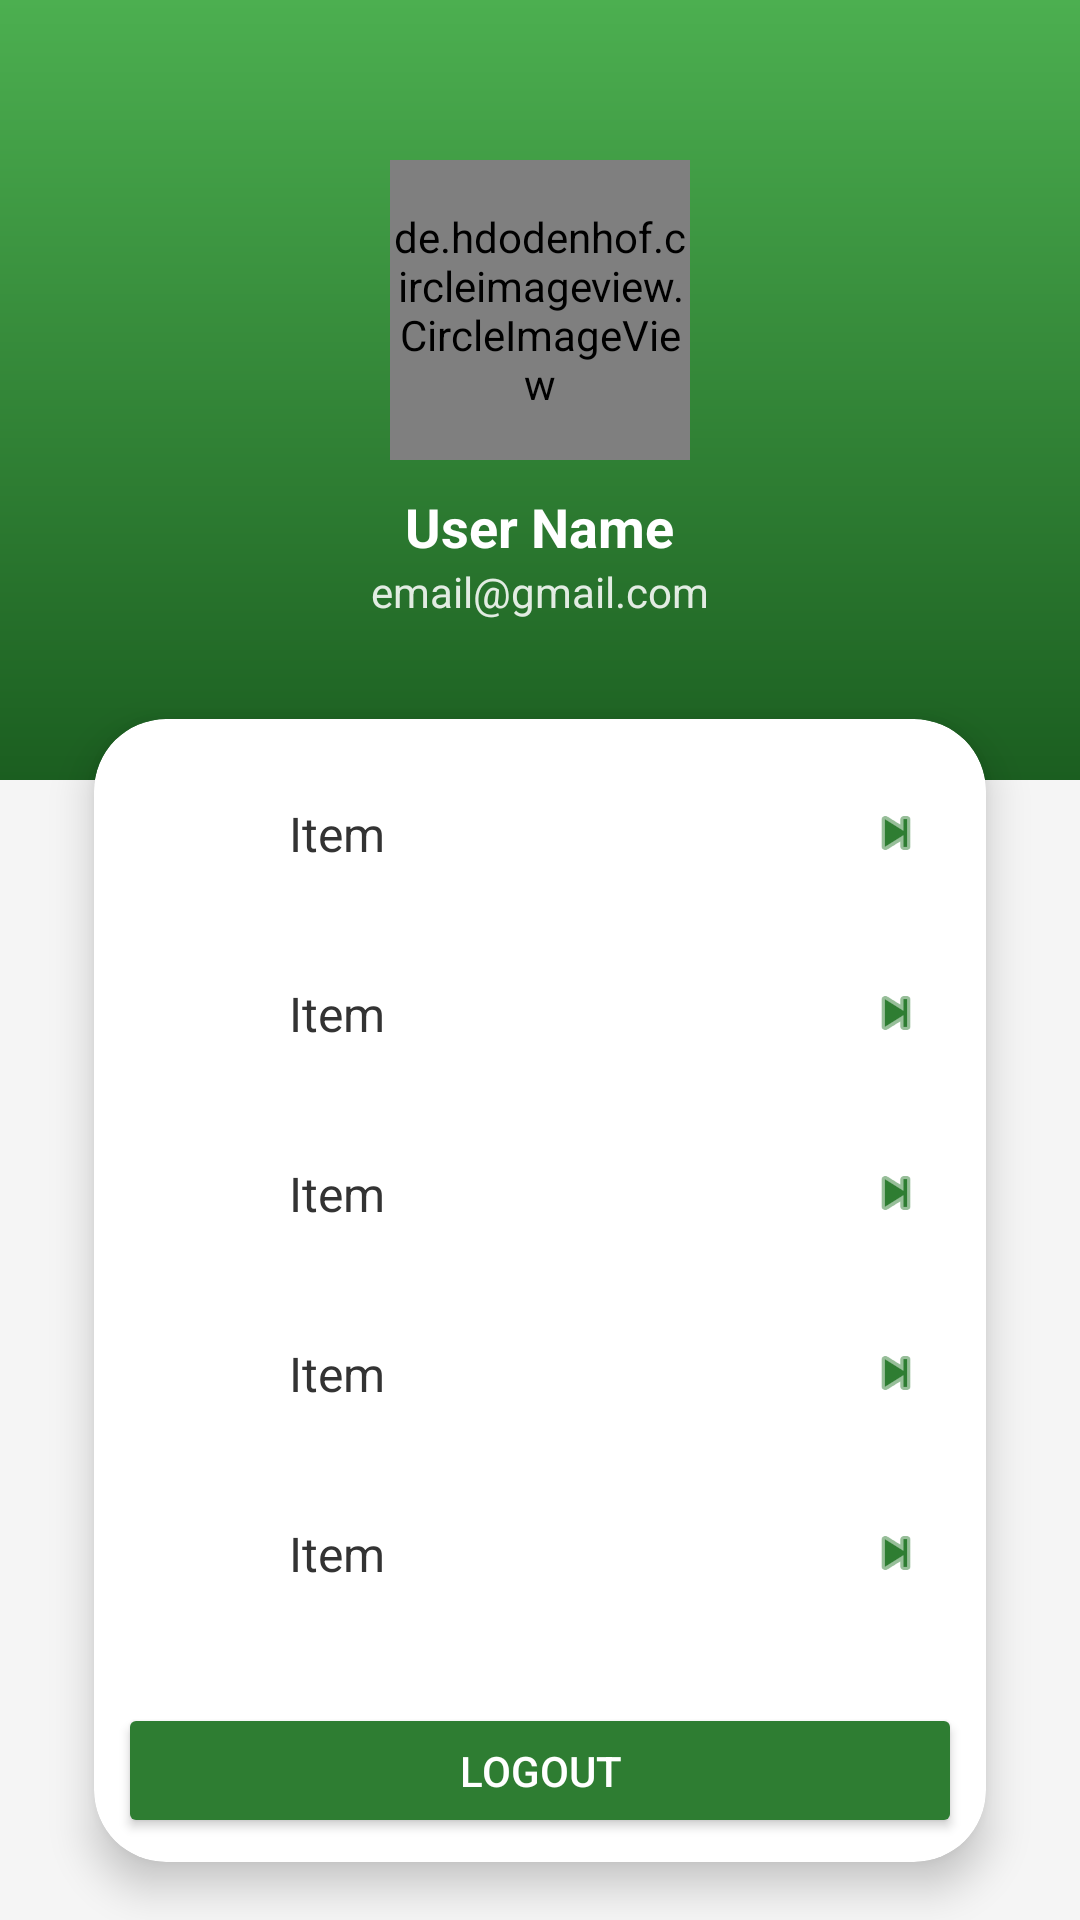

Where icons sit on this 1080x1920 app screen, as (x1, y1, x2, y2):
next: (881, 816, 911, 850), (881, 996, 911, 1030), (881, 1176, 911, 1210), (881, 1356, 911, 1390), (881, 1536, 911, 1570)
